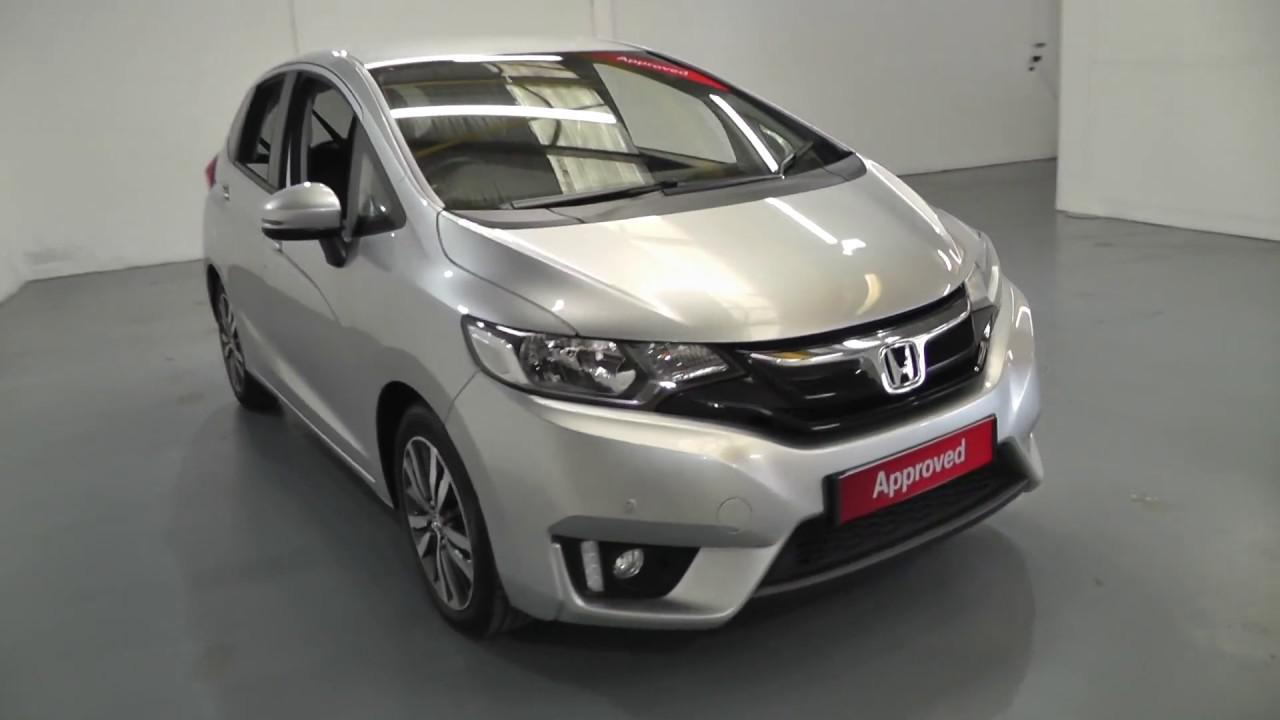Hatchback: (192, 26, 1067, 657)
